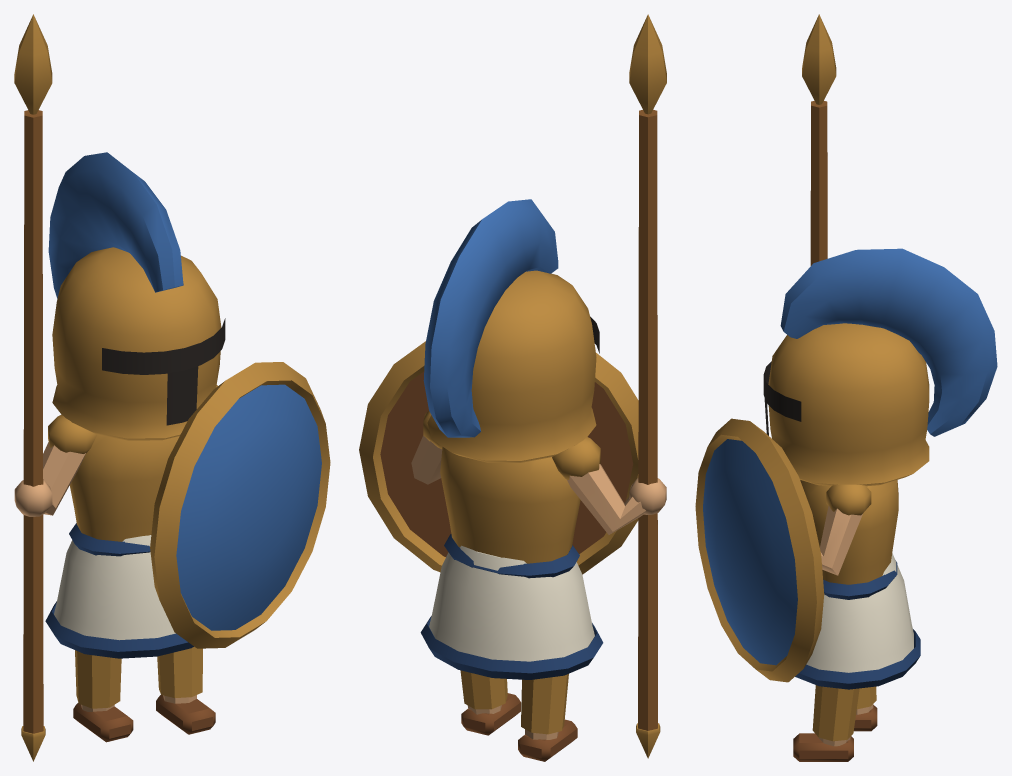
The model's file is hoplite.glb.
The picture shows the model from 3 angles, left to right: view 1: azimuth 30°, elevation 25°; view 2: azimuth 150°, elevation 25°; view 3: azimuth 270°, elevation 25°; orthographic projection. The views are drawn at different scales.
Visible parts, largest first — view 1: hoplite; view 2: hoplite; view 3: hoplite.
Boxes of the visible parts, x1=… form: hoplite: x1=14, y1=14, x2=330, y2=761; hoplite: x1=359, y1=14, x2=666, y2=761; hoplite: x1=695, y1=14, x2=997, y2=761.
Size of the model in its own units: 0.4908 by 1.13 by 0.4582.
